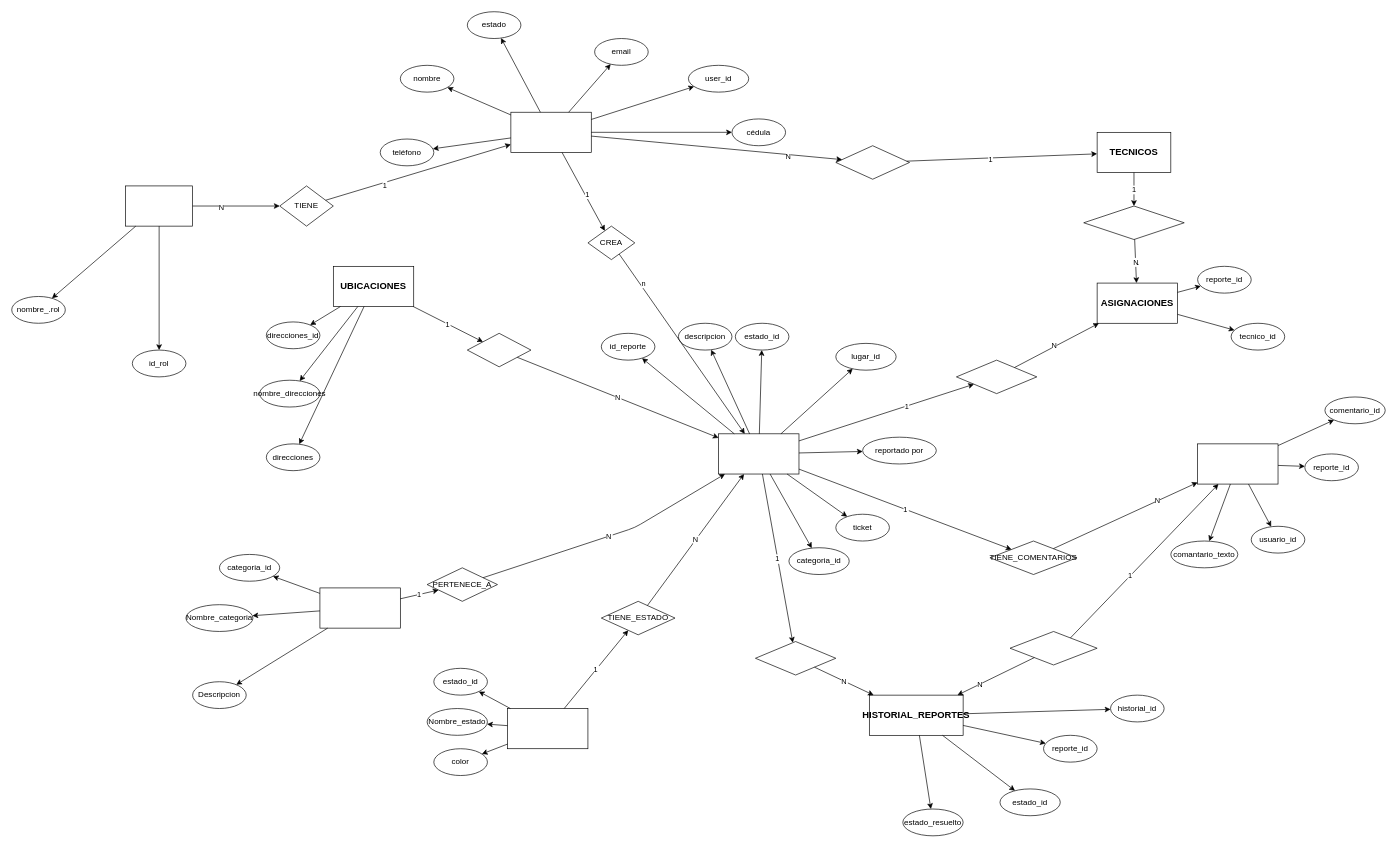
The diagram is 1397 pixels wide and 848 high, and some of its shapes have lost their labels. Each missing label, with the centre of its shape:
"CATEGORIAS" goes at (x=359, y=607).
"COMENTARIOS" goes at (x=1237, y=463).
"ES_ASIGNADO_A" goes at (x=996, y=376).
"ES_UN" goes at (x=872, y=162).
"ESCRIBE" goes at (x=1053, y=648).
"ESTADOS" goes at (x=547, y=728).
"REPORTES" goes at (x=758, y=453).
"ROLES" goes at (x=159, y=205).
"SE_UBICA_EN" goes at (x=499, y=350).
"TIENE_ASIGNACIONES" goes at (x=1133, y=222).
"TIENE_HISTORIAL" goes at (x=795, y=658).
"USUARIOS" goes at (x=550, y=132).
